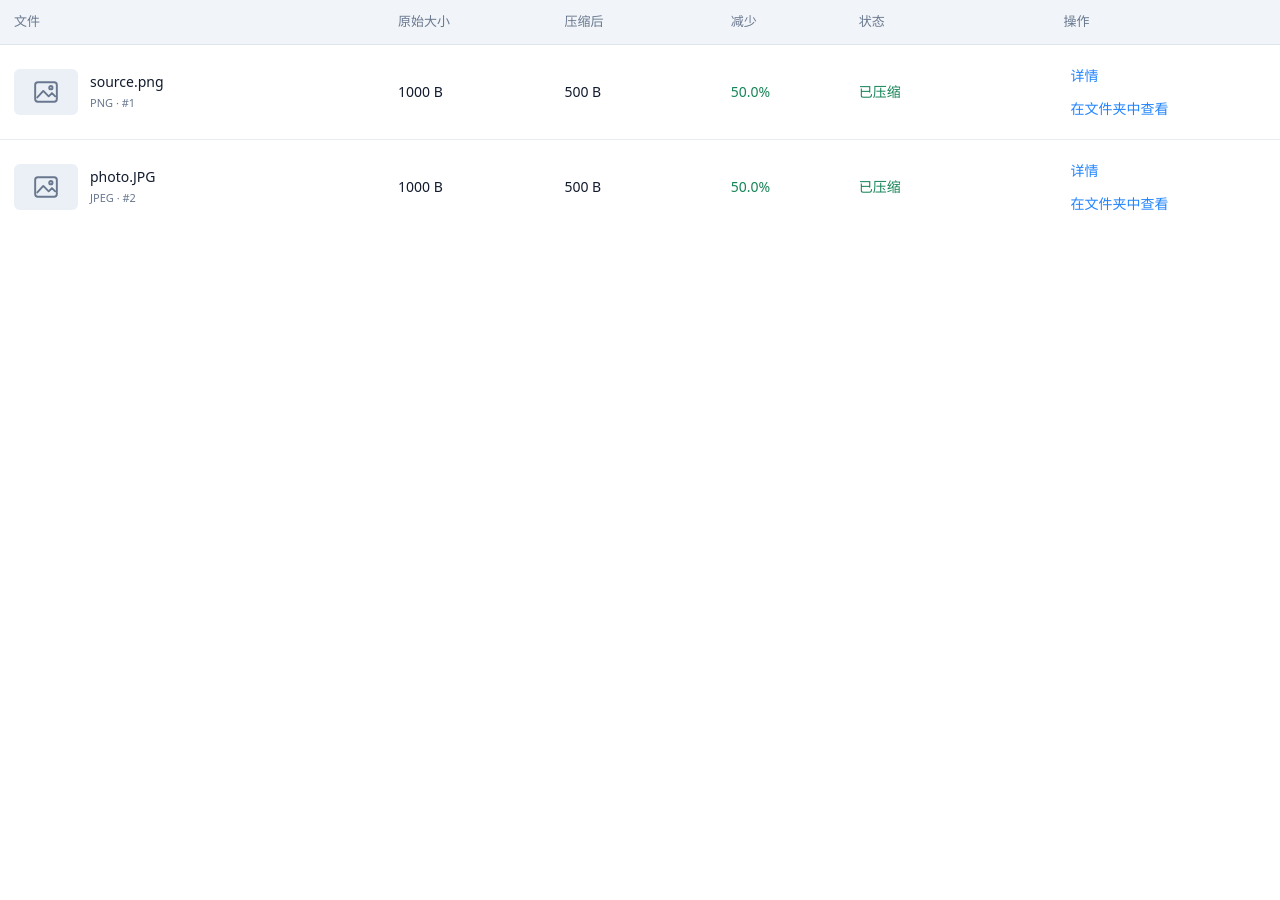
Scenario: shows mixed formats and JPEG fallback honestly in zh-CN
The width and height of the screenshot is (1280, 900).
Expected: the text "PNG · #1" is shown, [90,95,135,110]
Expected: the text "JPEG · #2" is shown, [90,190,136,205]
Step 1. Hover over the button "详情" in the row of "photo.JPG" → (1085, 170), box [1064,154,1106,186]
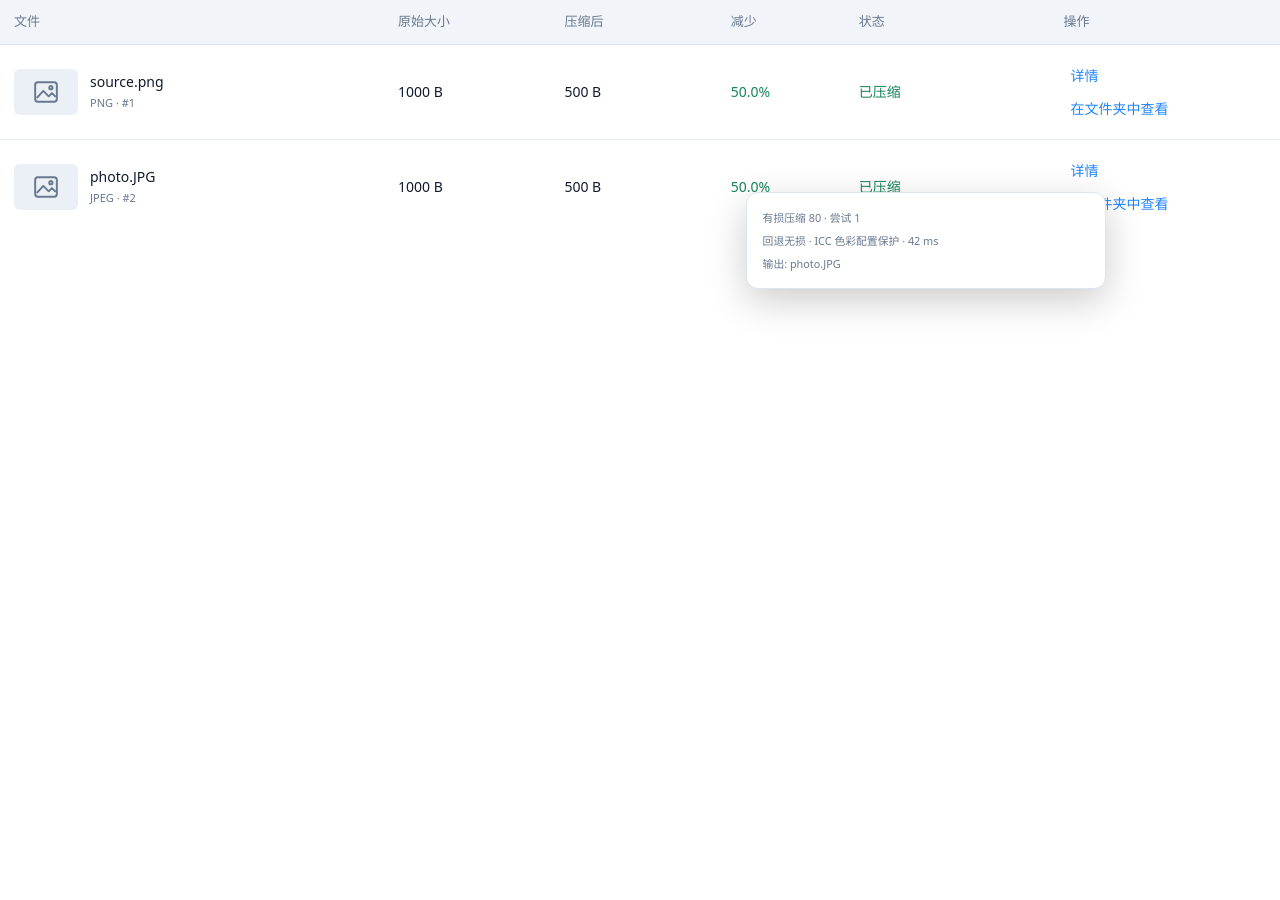
Now the dialog shows "回退无损 · ICC 色彩配置保护", box [746,192,1106,289]
